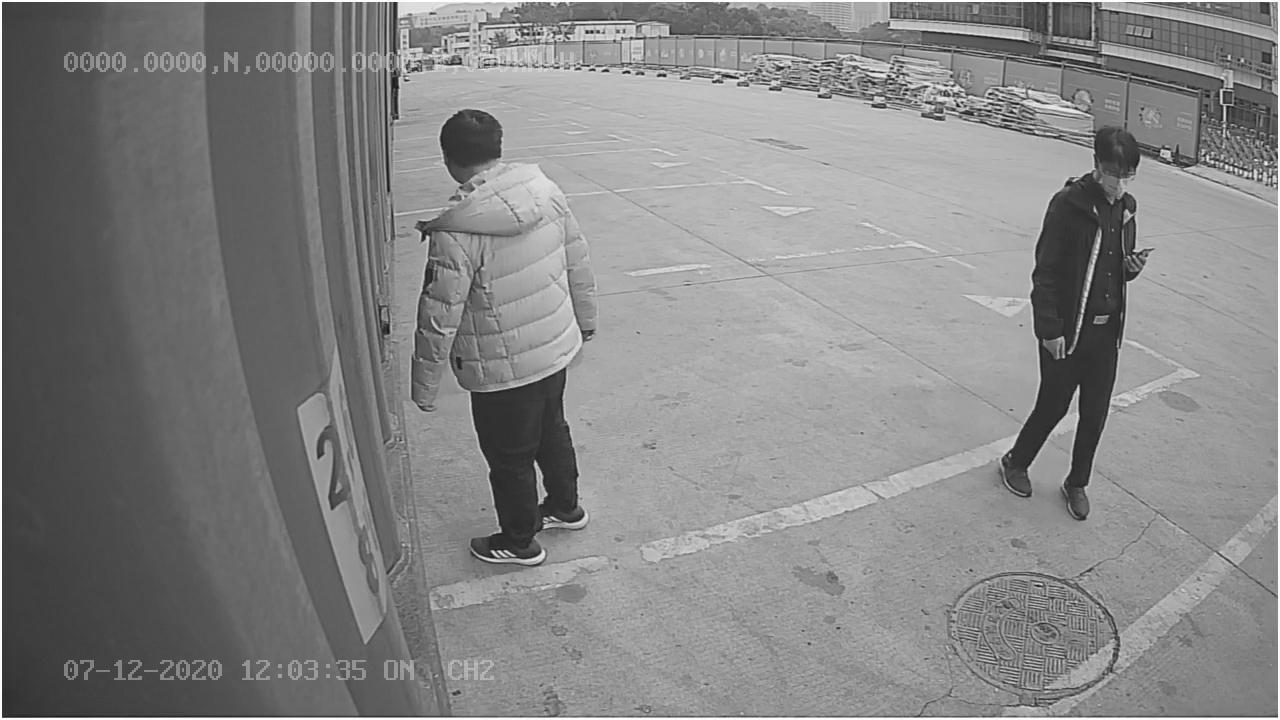person: (410, 99, 607, 573), (993, 107, 1149, 520)
